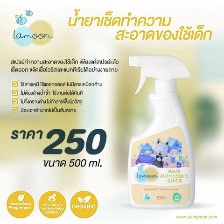cleaning_solution: (123, 52, 198, 211)
